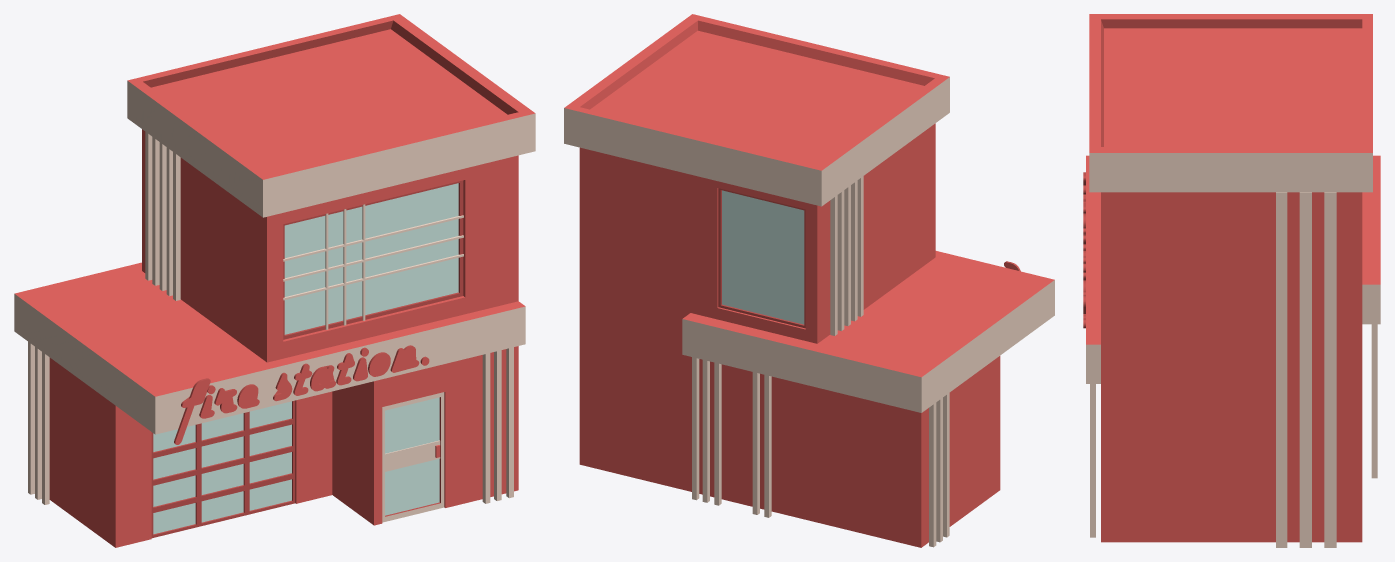
The model's file is FireStation.fbx.
3 views of the same model, side by side, from view 1: azimuth 30°, elevation 25°; view 2: azimuth 150°, elevation 25°; view 3: azimuth 270°, elevation 25° (orthographic). The views are drawn at different scales.
Visible parts, largest first — view 1: fire_station; view 2: fire_station; view 3: fire_station.
Part boxes in pixels (<box>): fire_station: <box>14,14,535,547</box>; fire_station: <box>564,14,1054,547</box>; fire_station: <box>1083,14,1380,547</box>.
Bounding box in the file's own units: 815 × 771 × 526.
